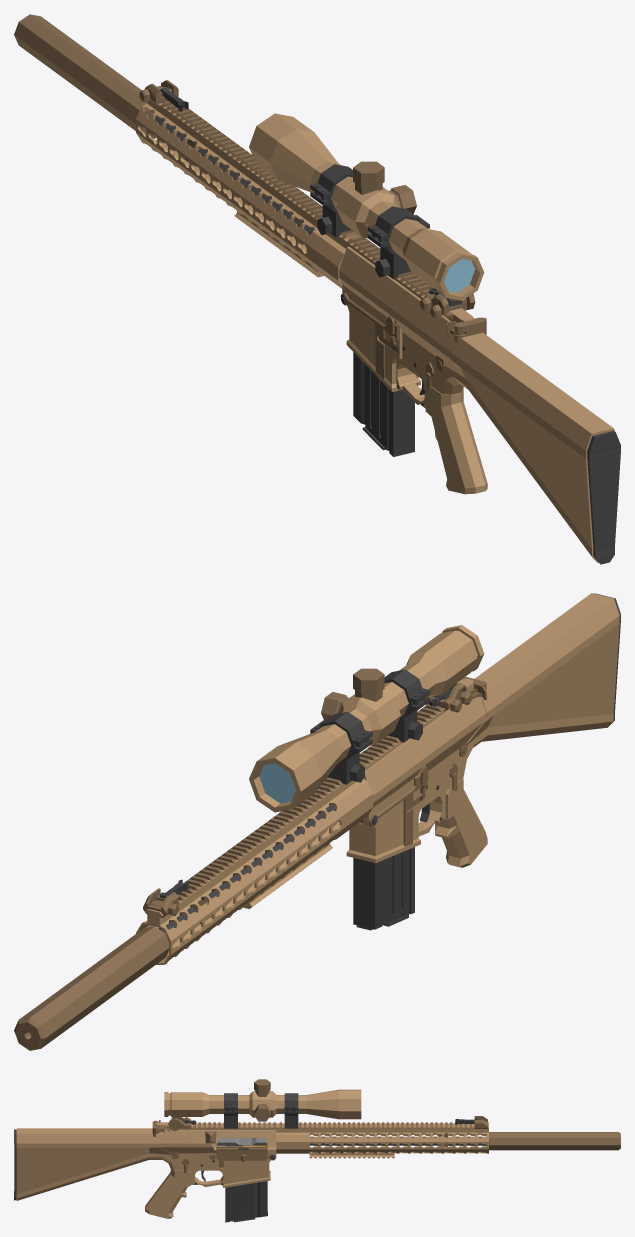
3 views of the same model, one above another, from view 1: azimuth 30°, elevation 25°; view 2: azimuth 150°, elevation 25°; view 3: azimuth 270°, elevation 25° (orthographic). The views are drawn at different scales.
Parts seen in each view (by area): view 1: Cube.001; view 2: Cube.001; view 3: Cube.001.
Part boxes in pixels (box(x1,y1,x2,y2)): Cube.001: box(14, 14, 620, 564); Cube.001: box(14, 593, 620, 1050); Cube.001: box(14, 1079, 620, 1222).
Size of the model in its own units: 61.7 by 233 by 932.
